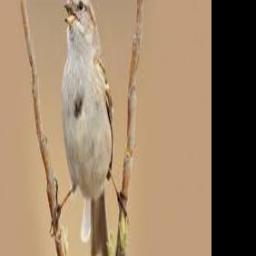Sparrow: (50, 0, 127, 256)
